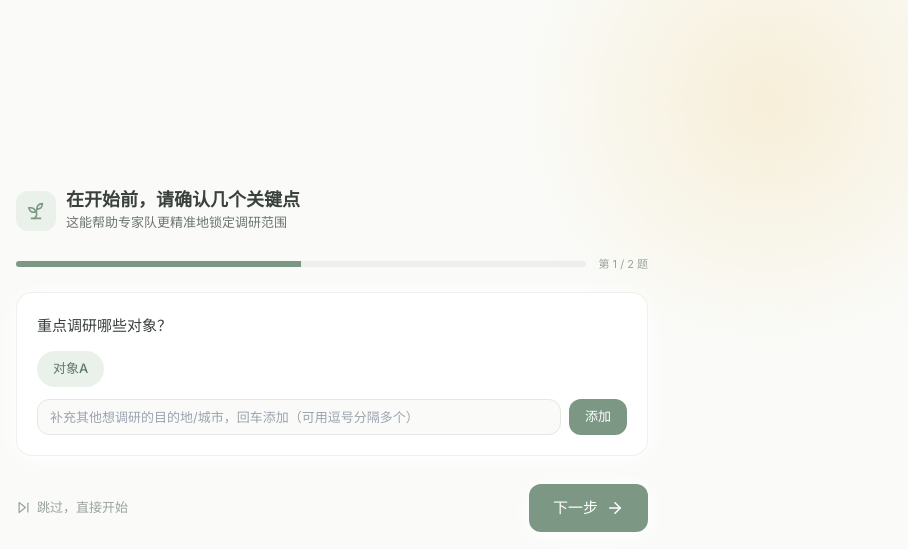
T-AutoAdvance 自动前进（单选 + 多选） › TC-AA7 competitors（multi+自定义）选中后同样停顿自动前进
Expected: the text "重点调研哪些对象？" is shown, [37,316,172,335]
Click the button "对象A".
click(71, 368)  # box [37,350,104,386]
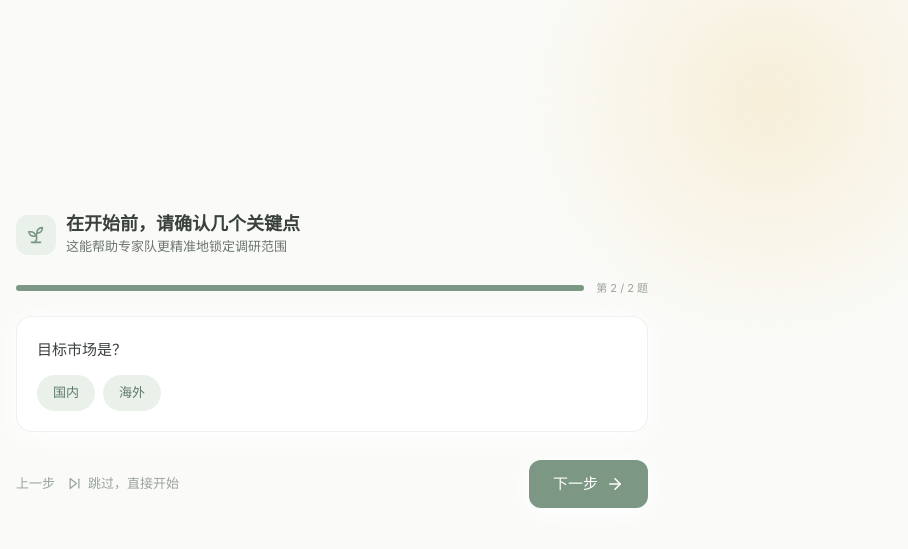
Expected: the button "完成本题" is shown, [529,460,648,508]
Now the text "目标市场是？" is shown, box [37,340,127,359]
